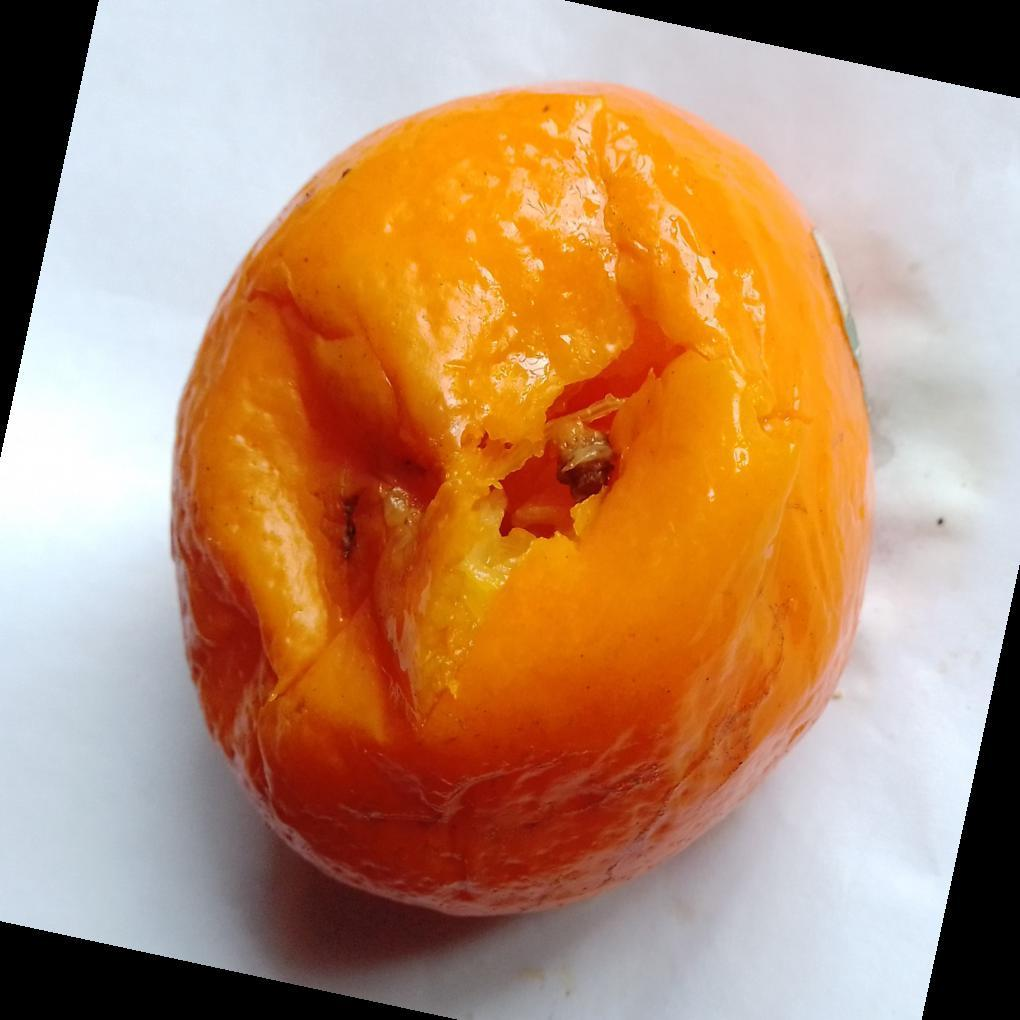FreshOrange: (168, 83, 875, 922)
